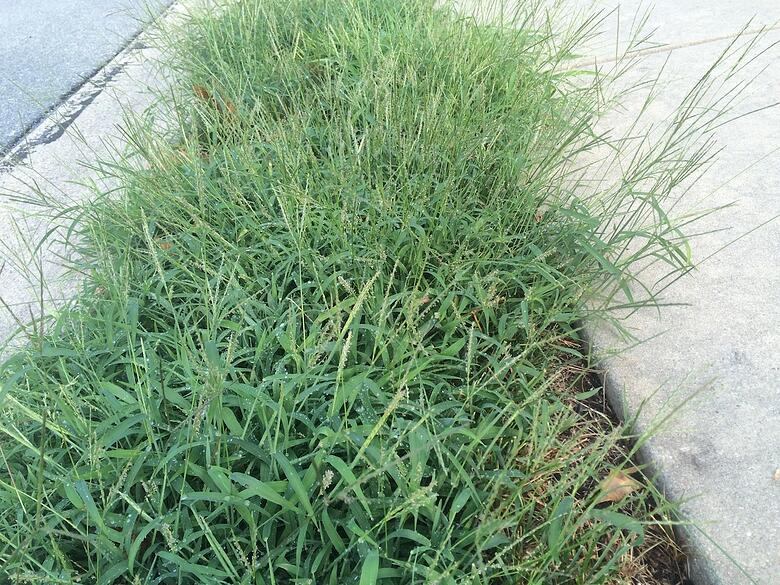crabgrass: (73, 323, 463, 585)
